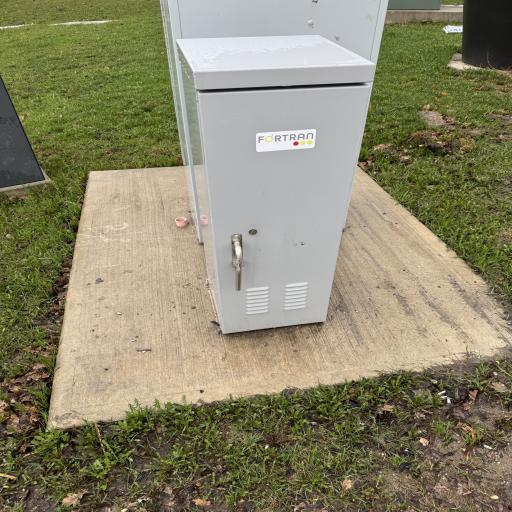Electrical Box: (160, 0, 390, 334)
